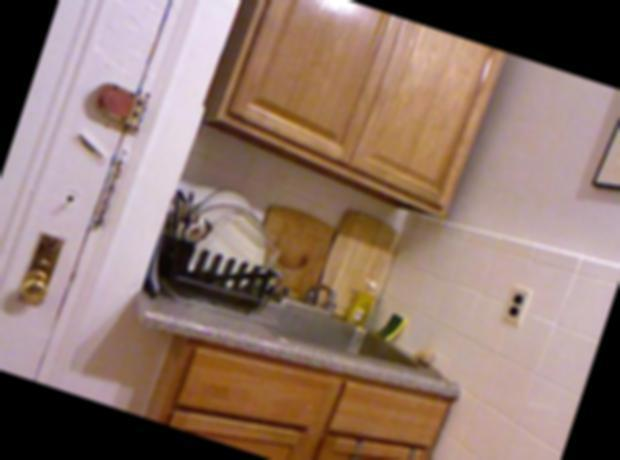Lavaplatos: (242, 245, 445, 390)
